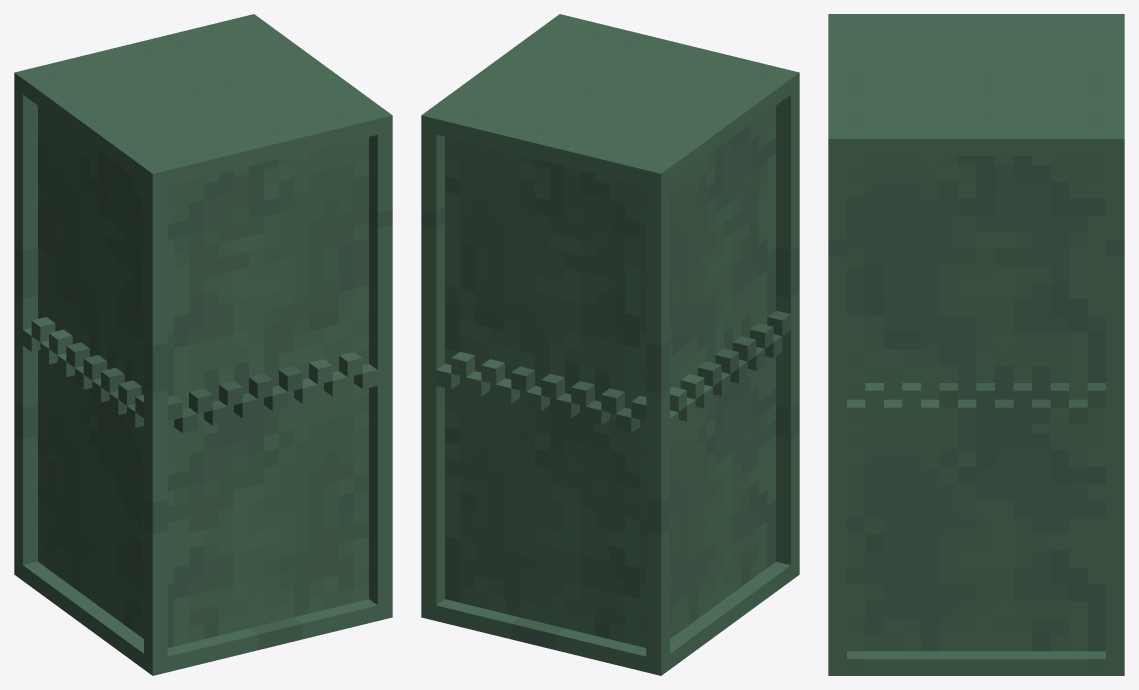
File: wall_new_empty_shaded.obj
The picture shows the model from 3 angles, left to right: view 1: azimuth 30°, elevation 25°; view 2: azimuth 150°, elevation 25°; view 3: azimuth 270°, elevation 25°; orthographic projection. The views are drawn at different scales.
Bounding box in the file's own units: 16 × 32 × 16.
1 material, 1 textured.
